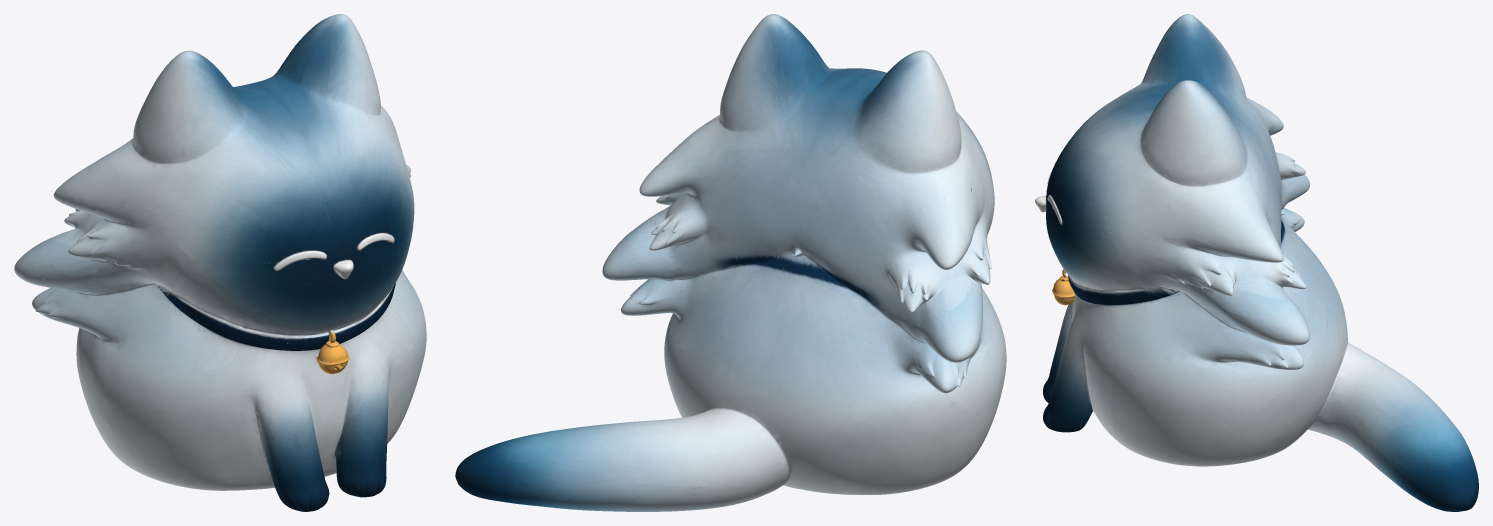
The model's file is bell-collar-CMaLPT35.glb.
The picture shows the model from 3 angles, left to right: view 1: azimuth 30°, elevation 25°; view 2: azimuth 150°, elevation 25°; view 3: azimuth 270°, elevation 25°; orthographic projection. The views are drawn at different scales.
Visible parts, largest first — view 1: worn-bell-collar; view 2: worn-bell-collar; view 3: worn-bell-collar.
Part boxes in pixels (x1=…): worn-bell-collar: x1=14, y1=14, x2=426, y2=511; worn-bell-collar: x1=455, y1=14, x2=1006, y2=511; worn-bell-collar: x1=1035, y1=14, x2=1478, y2=511.
Bounding box in the file's own units: 1.89 × 1.73 × 1.9.
Materials: 1 (1 with a texture image).
